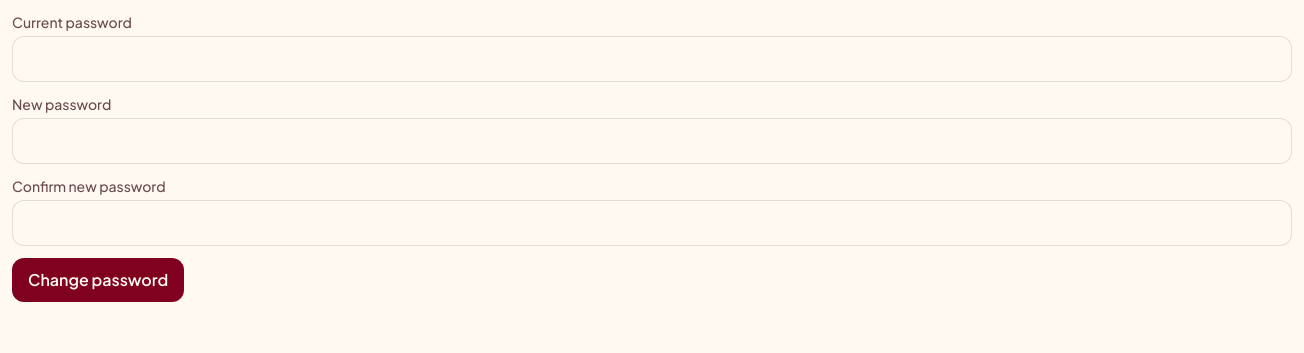
Test case: ChangePasswordForm › enforces minimum length
The width and height of the screenshot is (1304, 353).
Type "oldpass12" into the password field labelled "Current password" at (652, 59), box [12,36,1292,82]
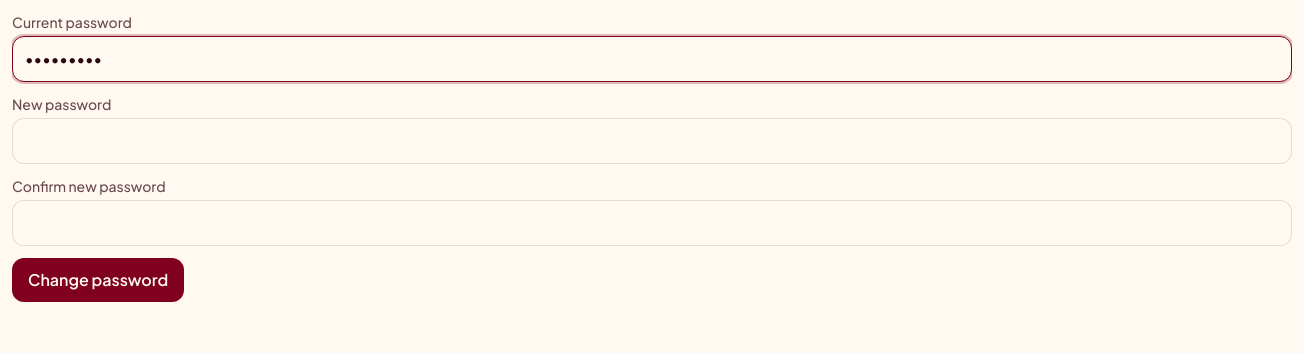
Type "1234567" into the password field labelled "New password" at (652, 141), box [12,118,1292,164]
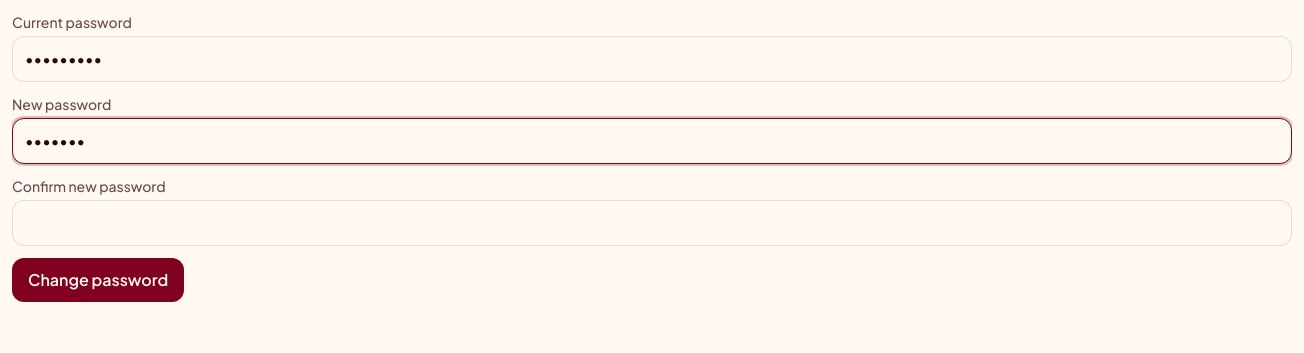
Type "1234567" into the password field labelled "Confirm new password" at (652, 223), box [12,200,1292,246]
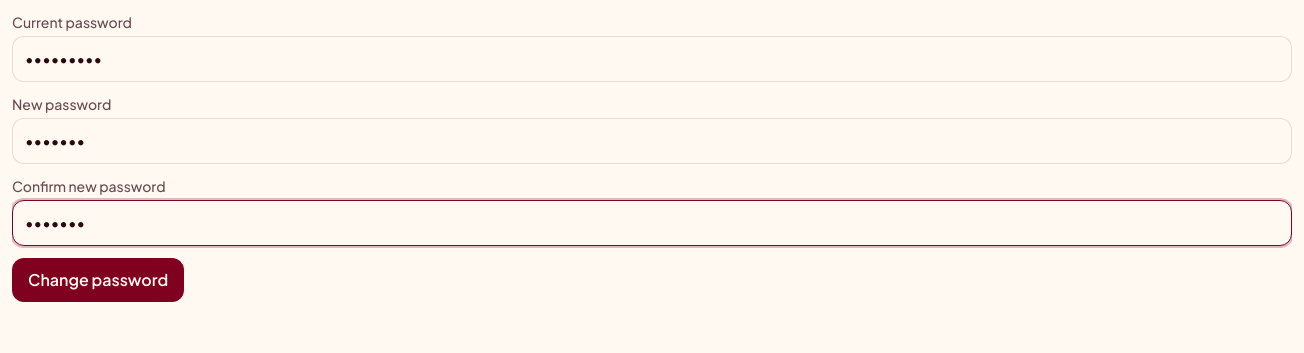
Click the button "Change password" at (98, 280), box [12,258,184,302]
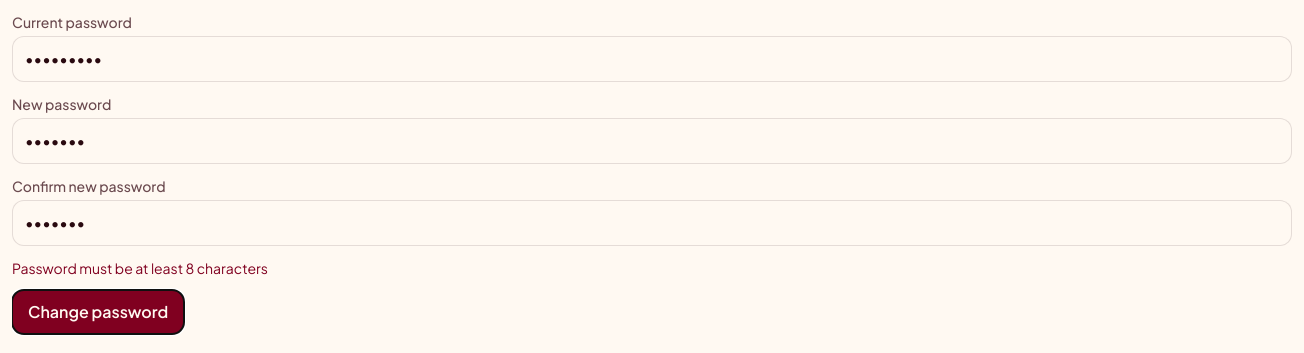
Result: the text "Password must be at least 8 characters" is shown at [12,259,268,277]
